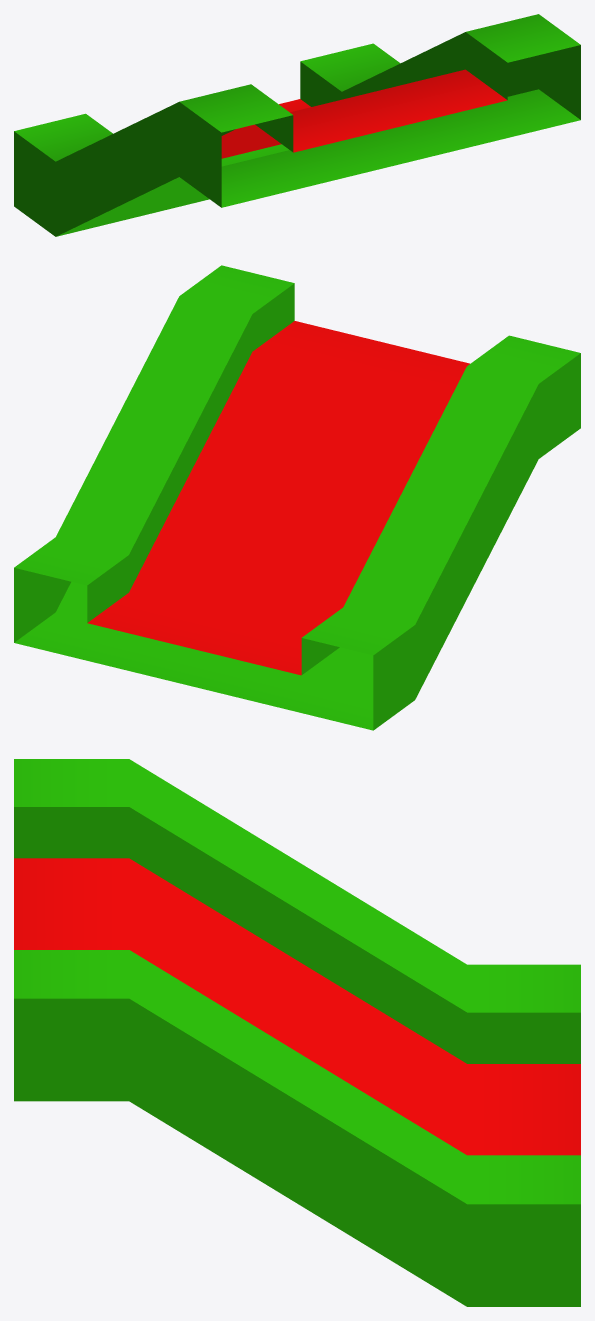
File: modular_pieces_center_elevate_fixed.FBX
3 views of the same model, one above another, from view 1: azimuth 30°, elevation 25°; view 2: azimuth 150°, elevation 25°; view 3: azimuth 270°, elevation 25° (orthographic). The views are drawn at different scales.
Visible parts, largest first — view 1: piece_new_center_elevate; view 2: piece_new_center_elevate; view 3: piece_new_center_elevate.
Part boxes in pixels (box(x1,y1,x2,y2)): piece_new_center_elevate: box(14, 14, 580, 236); piece_new_center_elevate: box(14, 265, 580, 730); piece_new_center_elevate: box(14, 759, 580, 1306).
Size of the model in its own units: 100 by 60 by 100.
